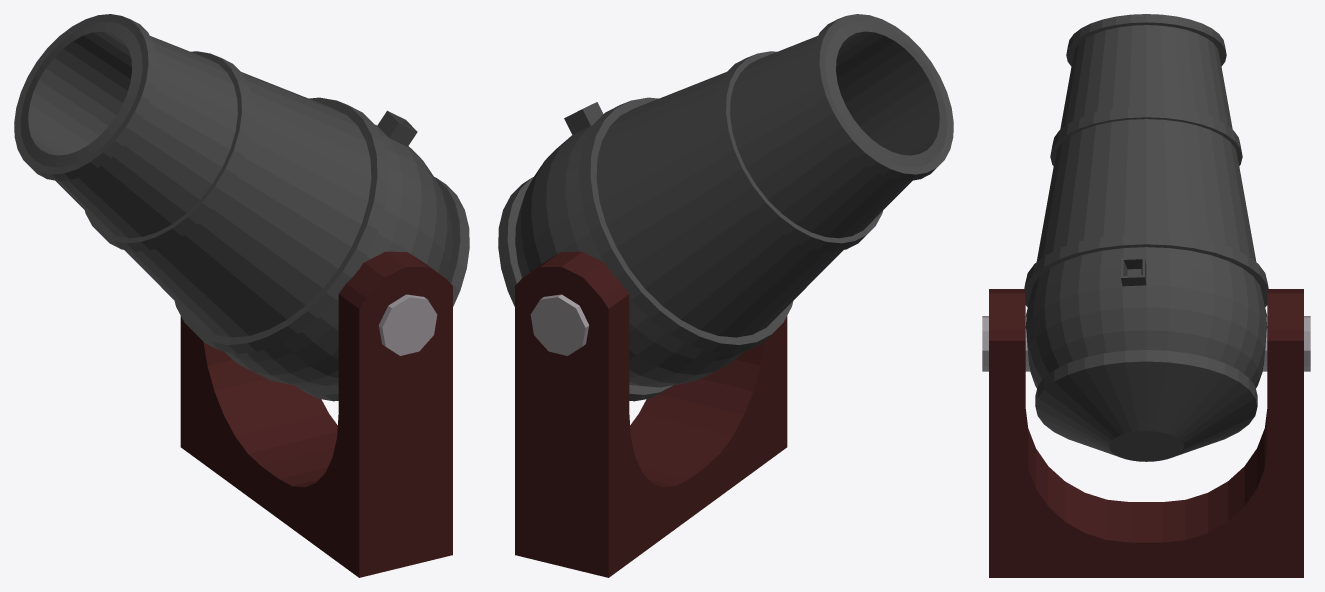
The model's file is pushka.fbx.
3 views of the same model, side by side, from view 1: azimuth 30°, elevation 25°; view 2: azimuth 150°, elevation 25°; view 3: azimuth 270°, elevation 25° (orthographic). The views are drawn at different scales.
Visible parts, largest first — view 1: Sphere, Plane; view 2: Sphere, Plane; view 3: Sphere, Plane.
Part boxes in pixels (box(x1,y1,x2,y2)): Sphere: box(14, 14, 469, 401); Plane: box(180, 251, 452, 577); Sphere: box(498, 14, 953, 401); Plane: box(515, 251, 787, 577); Sphere: box(1024, 14, 1268, 461); Plane: box(982, 289, 1310, 577).
Size of the model in its own units: 566 by 684 by 439.
